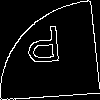P: (25, 24, 63, 73)
